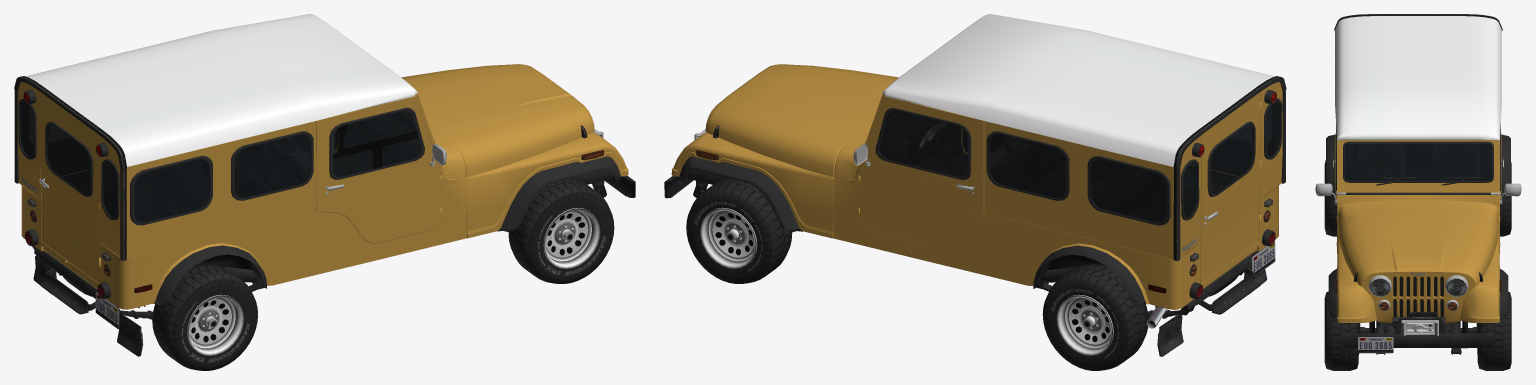
File: car_eugene.glb
3 renders of one model, left to right at view 1: azimuth 30°, elevation 25°; view 2: azimuth 150°, elevation 25°; view 3: azimuth 270°, elevation 25°, orthographic. The views are drawn at different scales.
Visible parts, largest first — view 1: EugenMK665_Bottom_UCB_BOTTOM_0, EugenMK665_Body_EugenMK665_bodymat_0, EugenMK665_interior_UCB_Interiors_2_0, EugenMK665_Hood_EugenMK665_bodymat_0, EugenMK665_Body_Glass_UCB_Lights_and_Glass_Transperent_0, EugenMK665_WheelStock_RR_RO1a_Tire_0, EugenMK665_WheelStock_FR_RO1a_Tire_0, EugenMK665_Door_trunk_EugenMK665_bodymat_0, EugenMK665_Glass_Passanger_UCB_Lights_and_Glass_Transperent_, EugenMK665_trunkdoor_glass_UCB_Lights_and_Glass_Transperent_, EugenMK665_Bumper_Rear_UCB_BOTTOM_0, EugenMK665_Door_trunk_inner_UCB_BOTTOM_0 (+2 smaller); view 2: EugenMK665_Bottom_UCB_BOTTOM_0, EugenMK665_Body_EugenMK665_bodymat_0, EugenMK665_Hood_EugenMK665_bodymat_0, EugenMK665_interior_UCB_Interiors_2_0, EugenMK665_Body_Glass_UCB_Lights_and_Glass_Transperent_0, EugenMK665_WheelStock_RL_RO1a_Tire_0, EugenMK665_WheelStock_FL_RO1a_Tire_0, EugenMK665_Door_trunk_EugenMK665_bodymat_0, EugenMK665_Glass_Driver_UCB_Lights_and_Glass_Transperent_0, EugenMK665_trunkdoor_glass_UCB_Lights_and_Glass_Transperent_, EugenMK665_Bumper_Rear_UCB_BOTTOM_0, EugenMK665_Door_trunk_inner_UCB_BOTTOM_0 (+1 smaller); view 3: EugenMK665_Bottom_UCB_BOTTOM_0, EugenMK665_Body_EugenMK665_bodymat_0, EugenMK665_Hood_EugenMK665_bodymat_0, EugenMK665_Windshield_UCB_Lights_and_Glass_Transperent_0, EugenMK665_interior_UCB_Interiors_2_0, EugenMK665_Bumper_front_UCB_BOTTOM_0, EugenMK665_WheelStock_FR_RO1a_Tire_0, EugenMK665_WheelStock_FL_RO1a_Tire_0, EugenMK665_Numberplate_front_Numberplates_Misk_U_0, EugenMK665_Headlights_glass_UCB_Lights_and_Glass_Transperent, EugenMK665_Headlights_UCB_Lights_and_Glass_0, EugenMK665_WheelStock_RR_RO1a_Tire_0 (+2 smaller).
Boxes of the visible parts, box(x1,y1,x2,y2) form: EugenMK665_Bottom_UCB_BOTTOM_0: box(14, 14, 620, 356); EugenMK665_Body_EugenMK665_bodymat_0: box(18, 82, 628, 309); EugenMK665_interior_UCB_Interiors_2_0: box(22, 102, 424, 221); EugenMK665_Hood_EugenMK665_bodymat_0: box(401, 64, 594, 177); EugenMK665_Body_Glass_UCB_Lights_and_Glass_Transperent_0: box(20, 101, 310, 222); EugenMK665_WheelStock_RR_RO1a_Tire_0: box(152, 264, 257, 370); EugenMK665_WheelStock_FR_RO1a_Tire_0: box(508, 178, 614, 283); EugenMK665_Door_trunk_EugenMK665_bodymat_0: box(40, 92, 100, 283); EugenMK665_Glass_Passanger_UCB_Lights_and_Glass_Transperent_: box(333, 110, 421, 177); EugenMK665_trunkdoor_glass_UCB_Lights_and_Glass_Transperent_: box(47, 124, 90, 194); EugenMK665_Bumper_Rear_UCB_BOTTOM_0: box(32, 246, 116, 314); EugenMK665_Door_trunk_inner_UCB_BOTTOM_0: box(39, 121, 93, 197); EugenMK665_Bottom_UCB_BOTTOM_0: box(679, 14, 1286, 356); EugenMK665_Body_EugenMK665_bodymat_0: box(671, 82, 1282, 309); EugenMK665_Hood_EugenMK665_bodymat_0: box(705, 64, 898, 177); EugenMK665_interior_UCB_Interiors_2_0: box(876, 102, 1278, 221); EugenMK665_Body_Glass_UCB_Lights_and_Glass_Transperent_0: box(989, 101, 1280, 222); EugenMK665_WheelStock_RL_RO1a_Tire_0: box(1042, 264, 1148, 370); EugenMK665_WheelStock_FL_RO1a_Tire_0: box(686, 178, 792, 283); EugenMK665_Door_trunk_EugenMK665_bodymat_0: box(1200, 92, 1260, 283); EugenMK665_Glass_Driver_UCB_Lights_and_Glass_Transperent_0: box(879, 110, 967, 177); EugenMK665_trunkdoor_glass_UCB_Lights_and_Glass_Transperent_: box(1210, 124, 1253, 194); EugenMK665_Bumper_Rear_UCB_BOTTOM_0: box(1184, 246, 1266, 314); EugenMK665_Door_trunk_inner_UCB_BOTTOM_0: box(1204, 121, 1255, 225); EugenMK665_Bottom_UCB_BOTTOM_0: box(1315, 14, 1521, 332); EugenMK665_Body_EugenMK665_bodymat_0: box(1335, 134, 1501, 323); EugenMK665_Hood_EugenMK665_bodymat_0: box(1338, 211, 1498, 286); EugenMK665_Windshield_UCB_Lights_and_Glass_Transperent_0: box(1344, 143, 1492, 180); EugenMK665_interior_UCB_Interiors_2_0: box(1336, 144, 1500, 192); EugenMK665_Bumper_front_UCB_BOTTOM_0: box(1343, 312, 1493, 347); EugenMK665_WheelStock_FR_RO1a_Tire_0: box(1324, 291, 1359, 370); EugenMK665_WheelStock_FL_RO1a_Tire_0: box(1477, 292, 1511, 370); EugenMK665_Numberplate_front_Numberplates_Misk_U_0: box(1358, 337, 1393, 353); EugenMK665_Headlights_glass_UCB_Lights_and_Glass_Transperent: box(1370, 278, 1466, 296); EugenMK665_Headlights_UCB_Lights_and_Glass_0: box(1371, 279, 1465, 295); EugenMK665_WheelStock_RR_RO1a_Tire_0: box(1324, 160, 1336, 236).
Size of the model in its own units: 3.98 by 1.72 by 1.73.
Materials: 8 (7 with a texture image).
